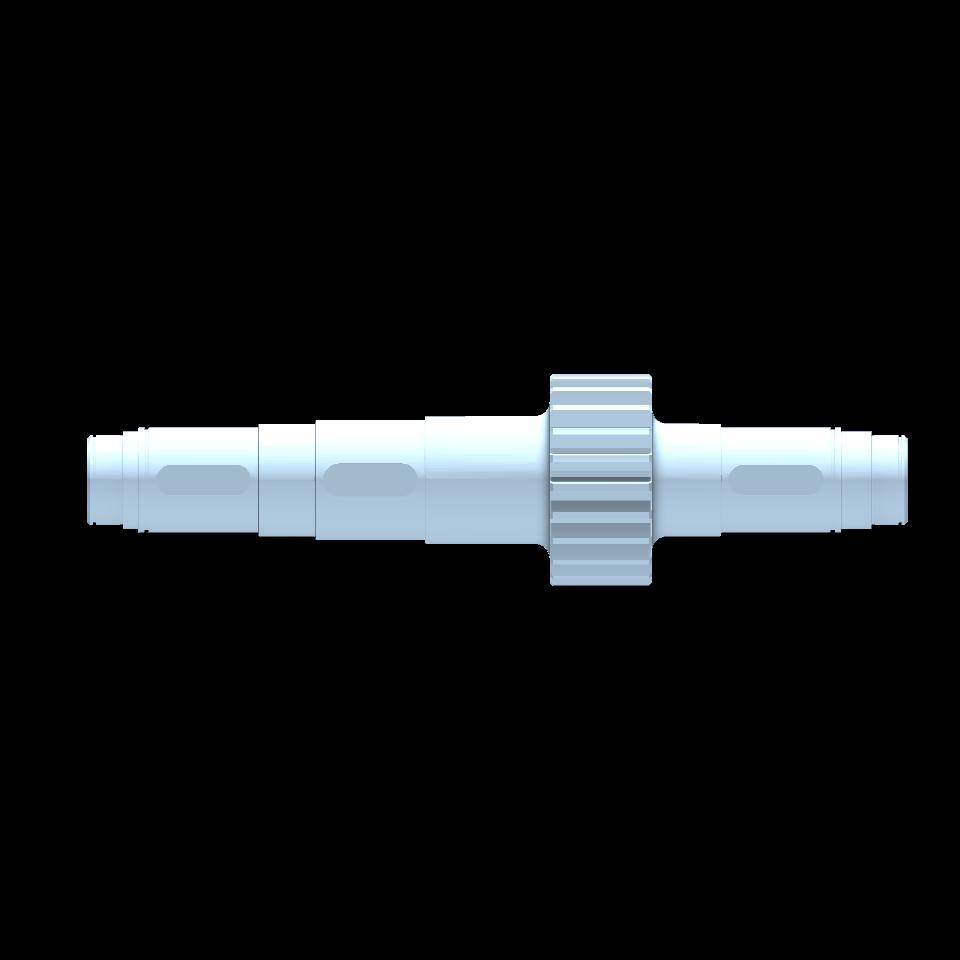Straight: (553, 374, 649, 585)
